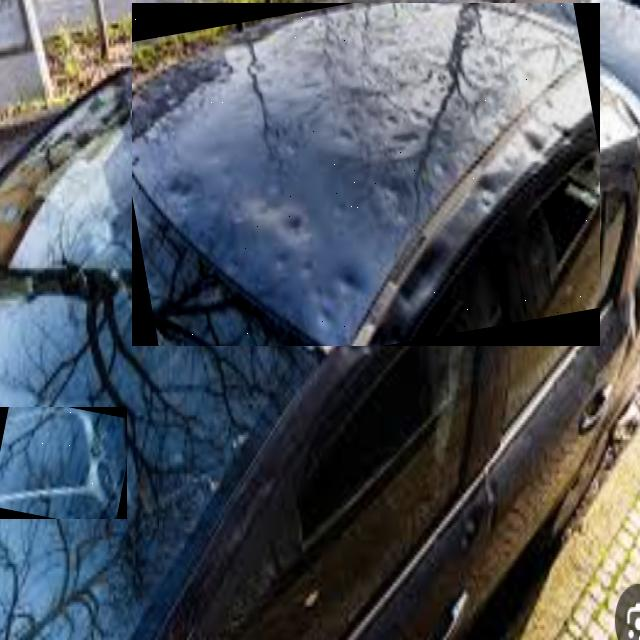Dent: (132, 3, 582, 345), (0, 407, 118, 507)
